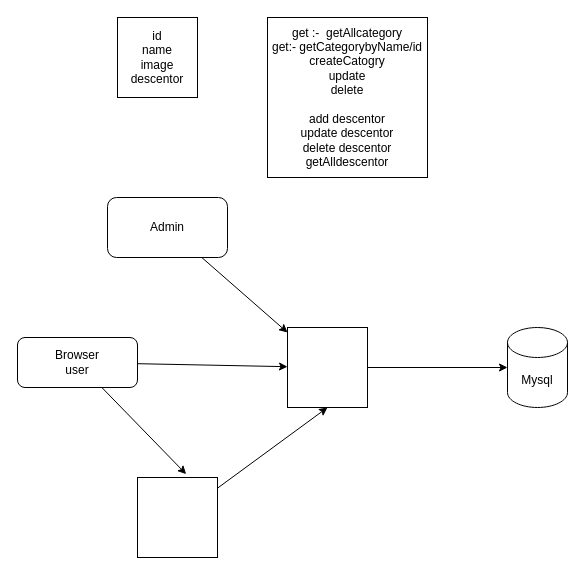
The diagram is 585 pixels wide and 575 high, and some of its shapes have lost their labels. The shapes that lost their labels are listed below. From the top down, each one's centre as x and y in pixels, then its label:
At point (327, 367): "category servcie".
At point (177, 517): "ProductService".
